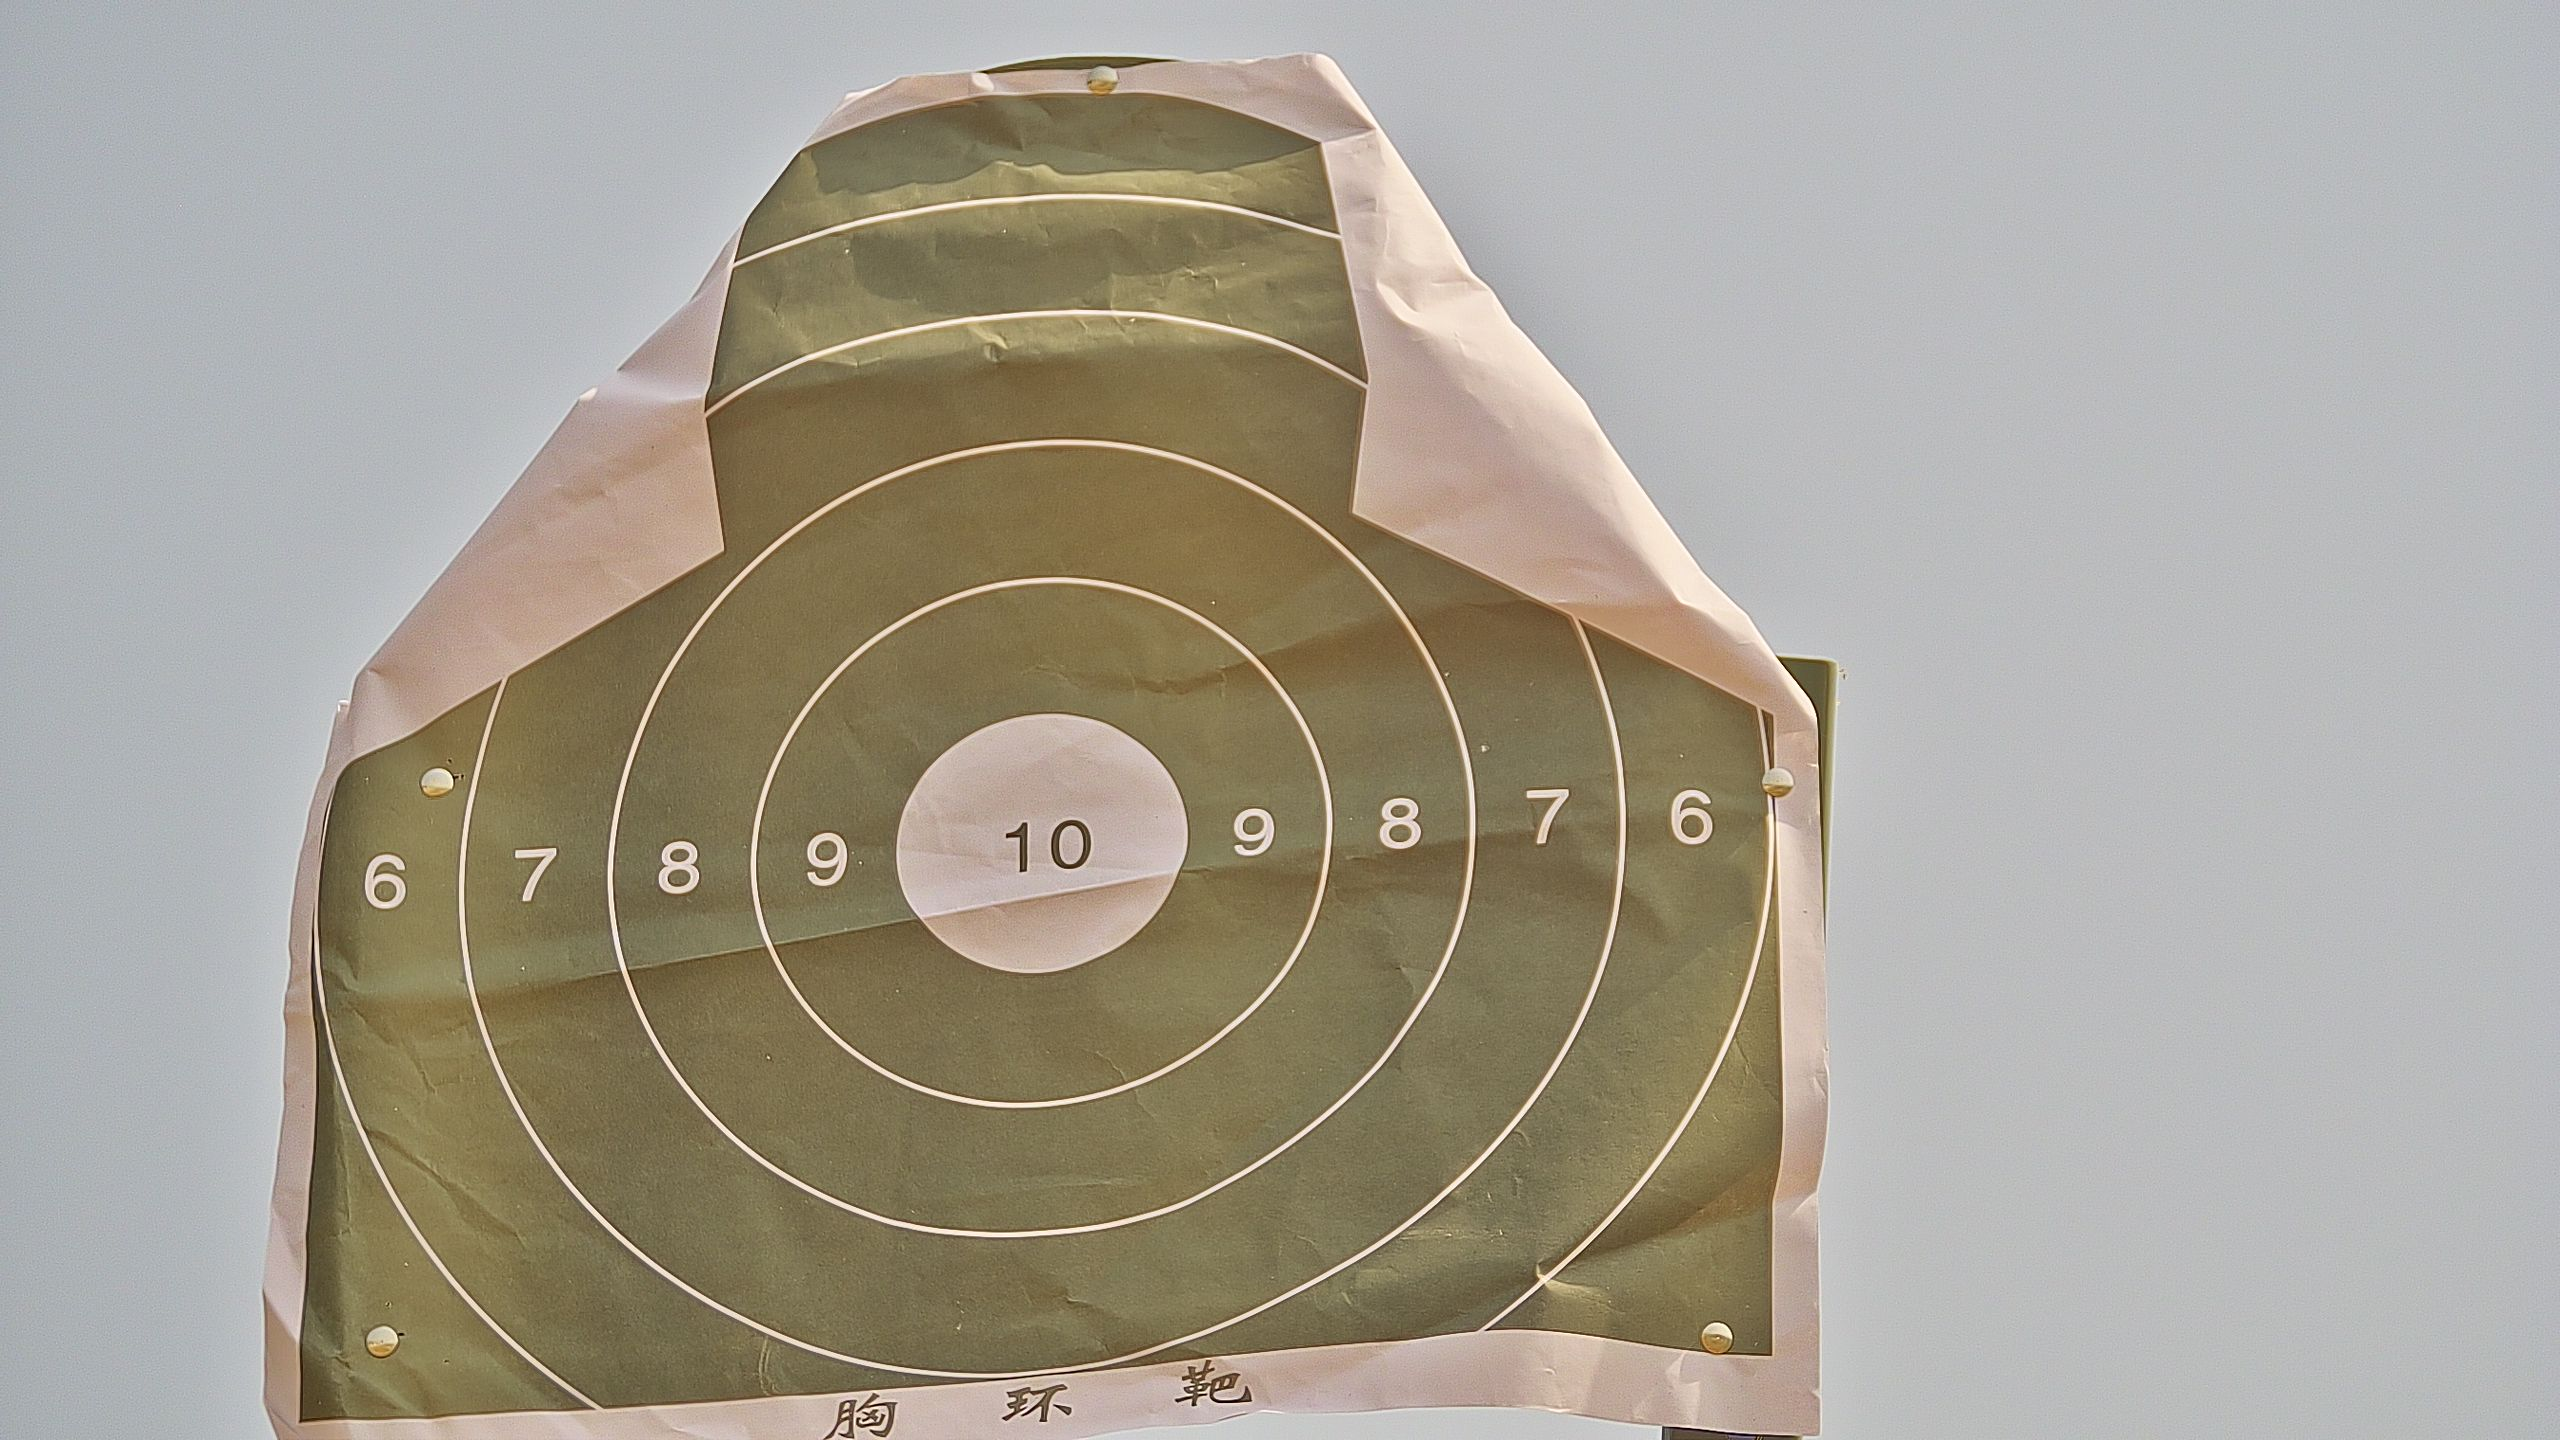kernel: (1037, 851, 1043, 862)
target: (308, 102, 1778, 1440)
ten: (886, 707, 1190, 976)
